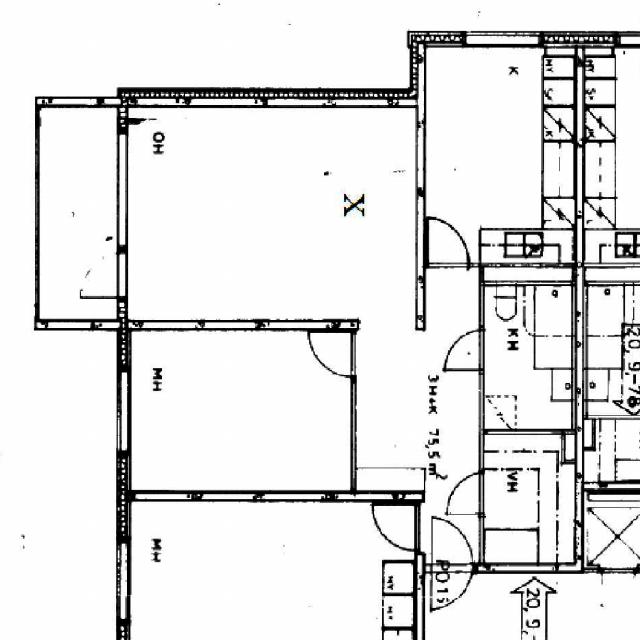door: (74, 252, 128, 296), (373, 505, 424, 551), (432, 563, 472, 616), (432, 520, 472, 573), (310, 333, 356, 376), (439, 471, 484, 514), (428, 219, 468, 267), (441, 330, 484, 369)
